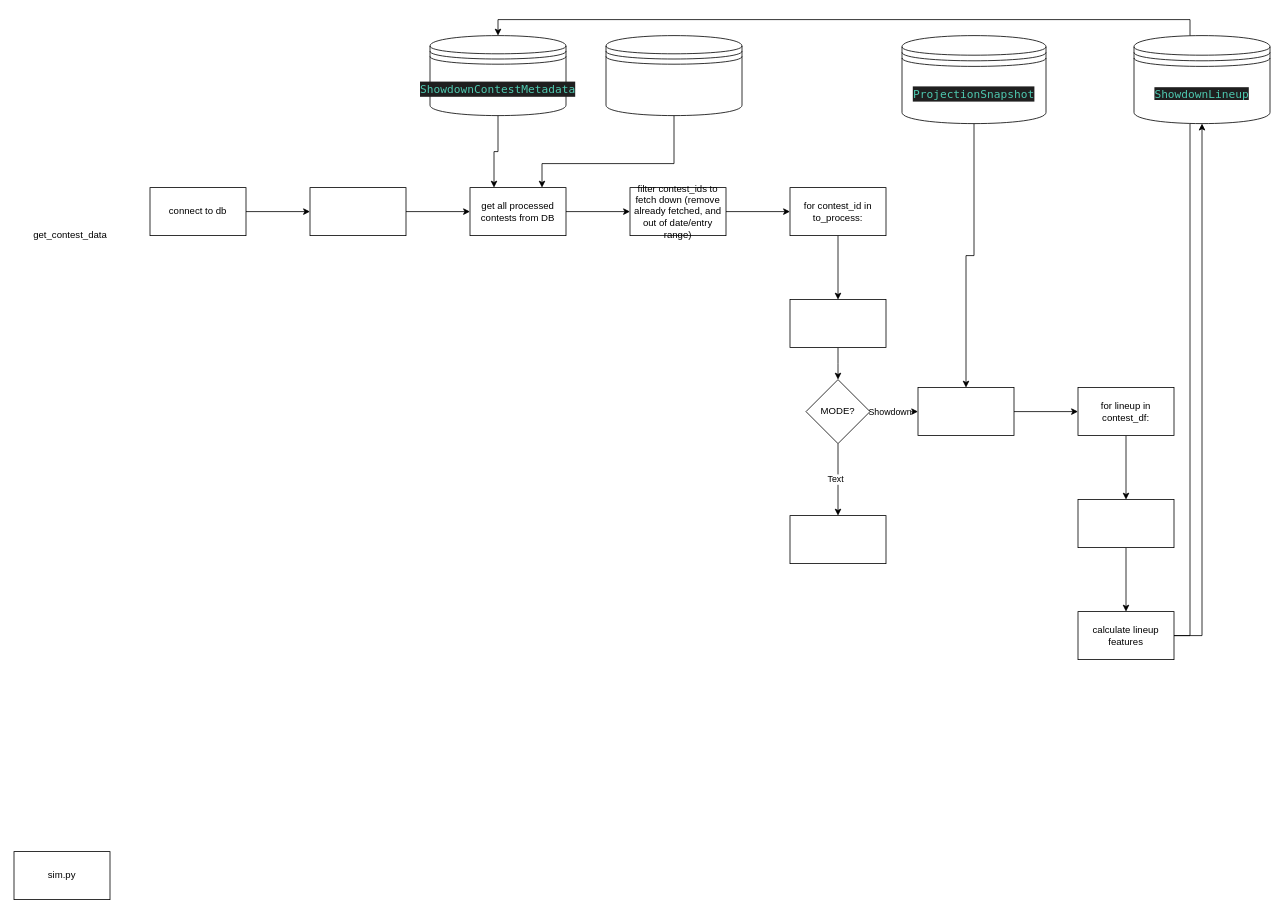
This 1284x914 diagram has some shape labels left out. The shapes that lost their labels are listed below. From the top down, each one's centre as x and y in pixels, then its label:
At point (673, 75): "ClassicContestMetadata".
At point (357, 211): "build authenticated chrome session".
At point (837, 323): "download contest df from DK API".
At point (965, 411): "get snapshot data".
At point (1125, 523): "parse SD lineup string".
